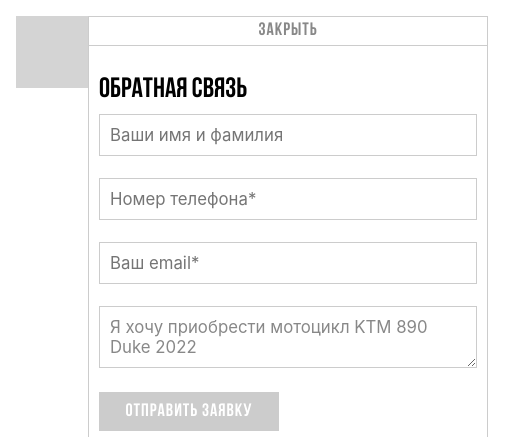
it: Order component › Input phone validation min 7 symbols working
The width and height of the screenshot is (505, 437).
Step 1. Type "A" into the field with test id "phone" → (288,199), box [99, 178, 477, 220]
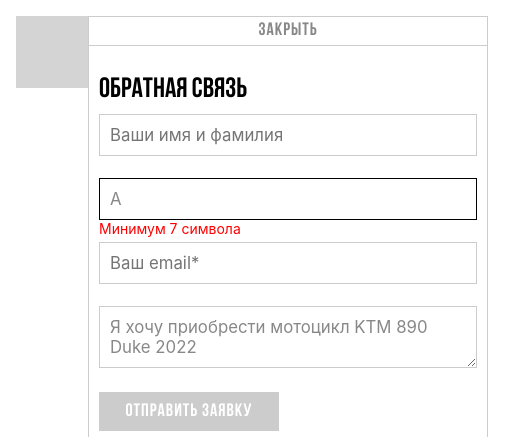
Now the text "Минимум 7 символа" is shown, box [99, 220, 241, 237]
